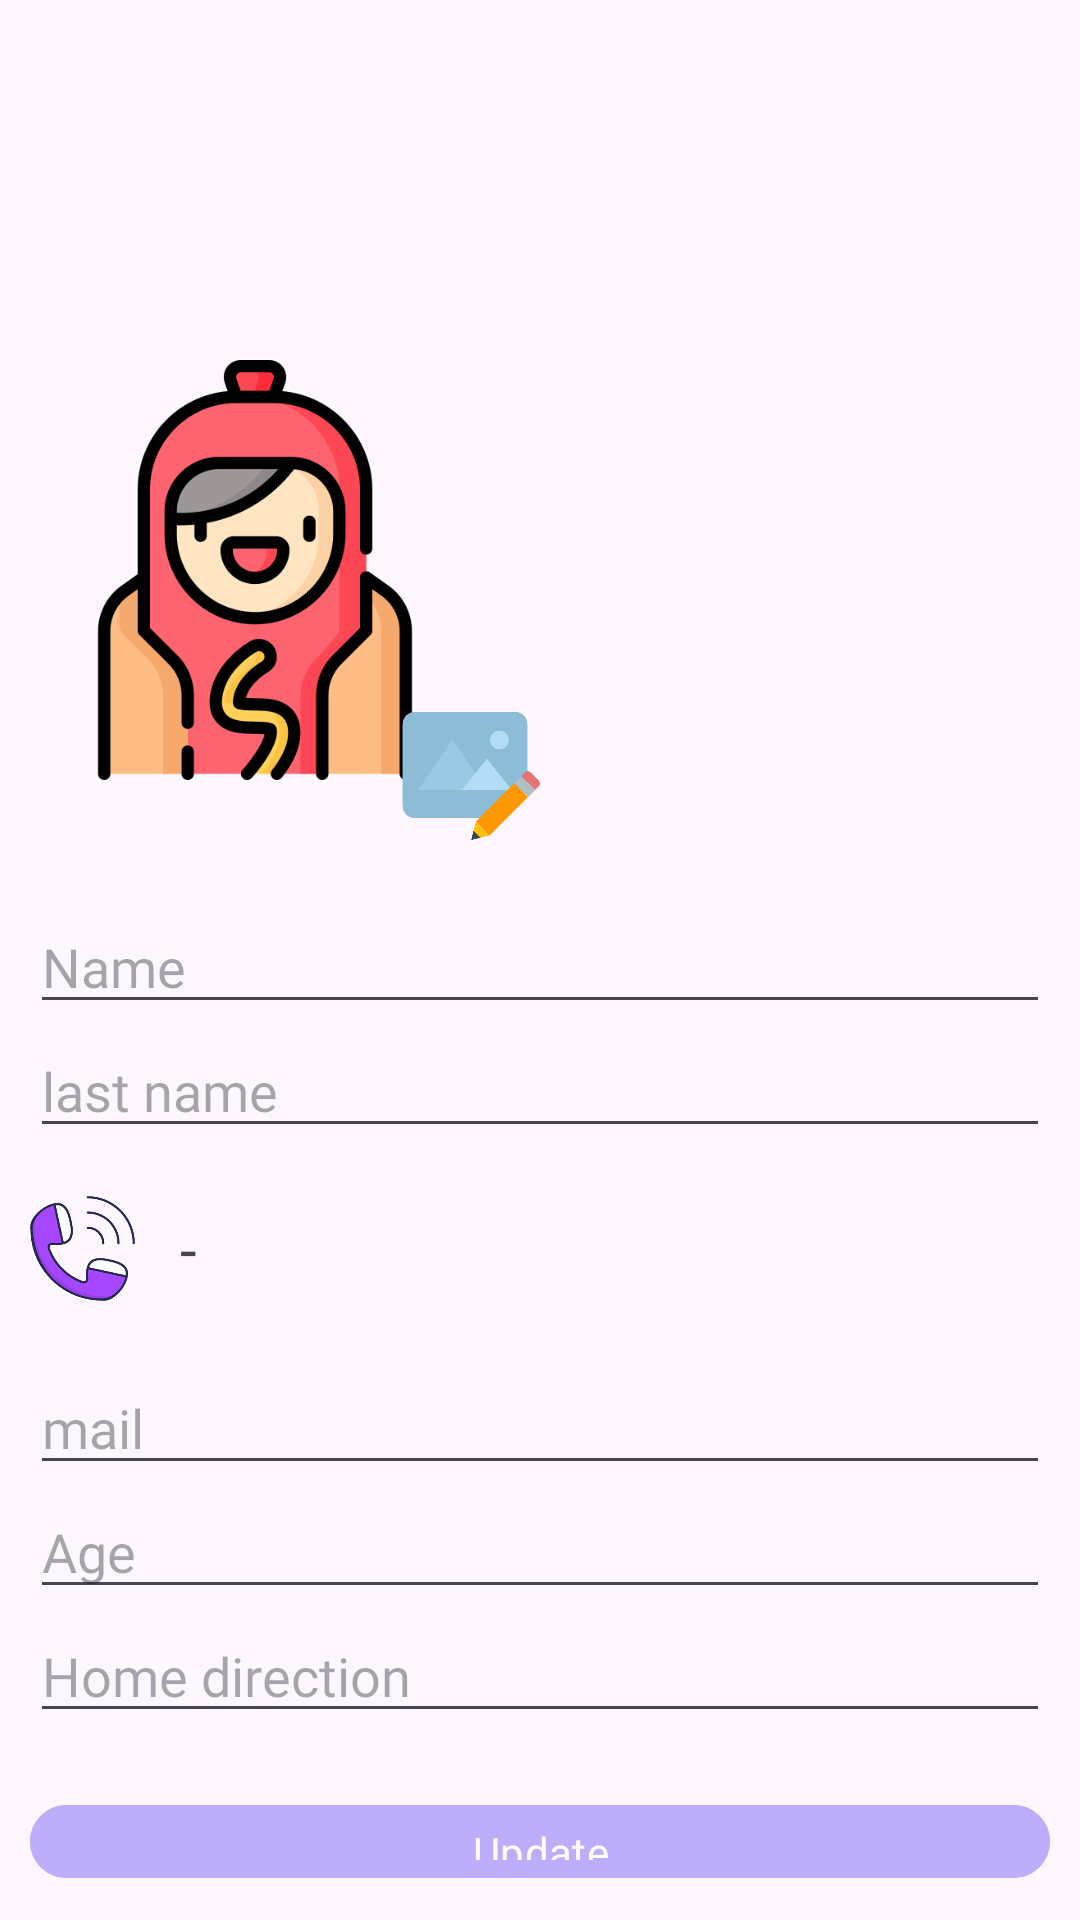

Screen size 1080*1920. Icon name, then its center in pixels as (x,y):
call: (82,1248)
edit: (465,765)
